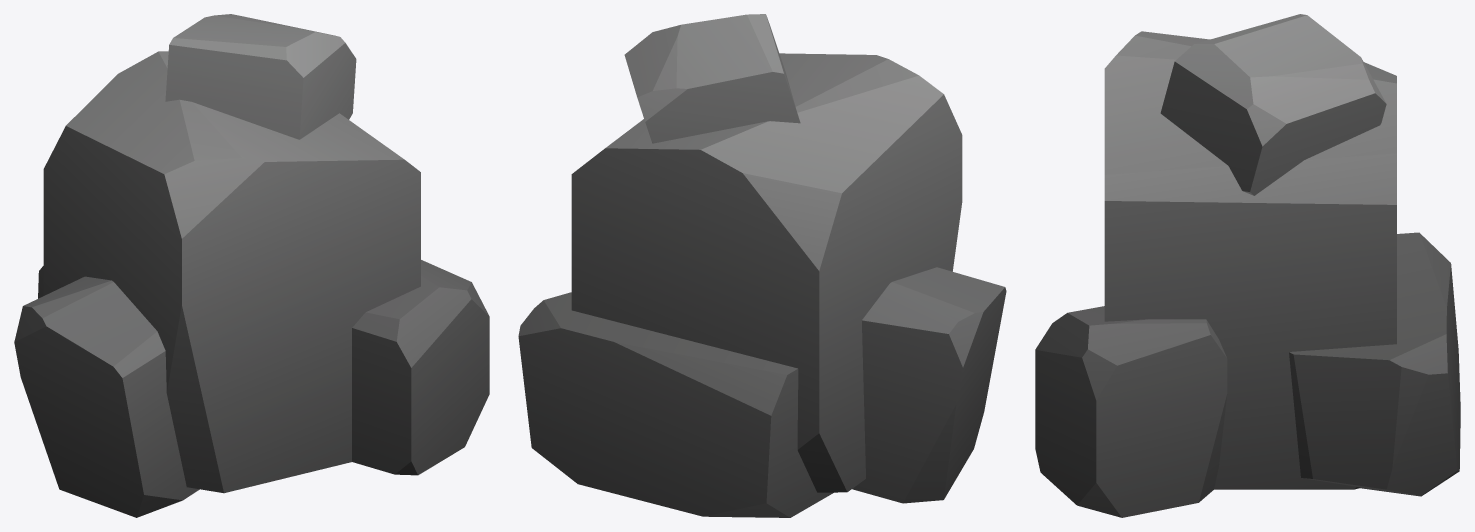
Rendered from SM_Rock_Big_04.fbx.
3 renders of one model, left to right at view 1: azimuth 30°, elevation 25°; view 2: azimuth 150°, elevation 25°; view 3: azimuth 270°, elevation 25°, orthographic. The views are drawn at different scales.
Visible parts, largest first — view 1: SM_Rock_Big_04; view 2: SM_Rock_Big_04; view 3: SM_Rock_Big_04.
Part boxes in pixels (left/top/right/bottom): SM_Rock_Big_04: left=14, top=14, right=489, bottom=517; SM_Rock_Big_04: left=518, top=14, right=1006, bottom=517; SM_Rock_Big_04: left=1035, top=14, right=1460, bottom=517.
Bounding box in the file's own units: 819 × 816 × 735.
